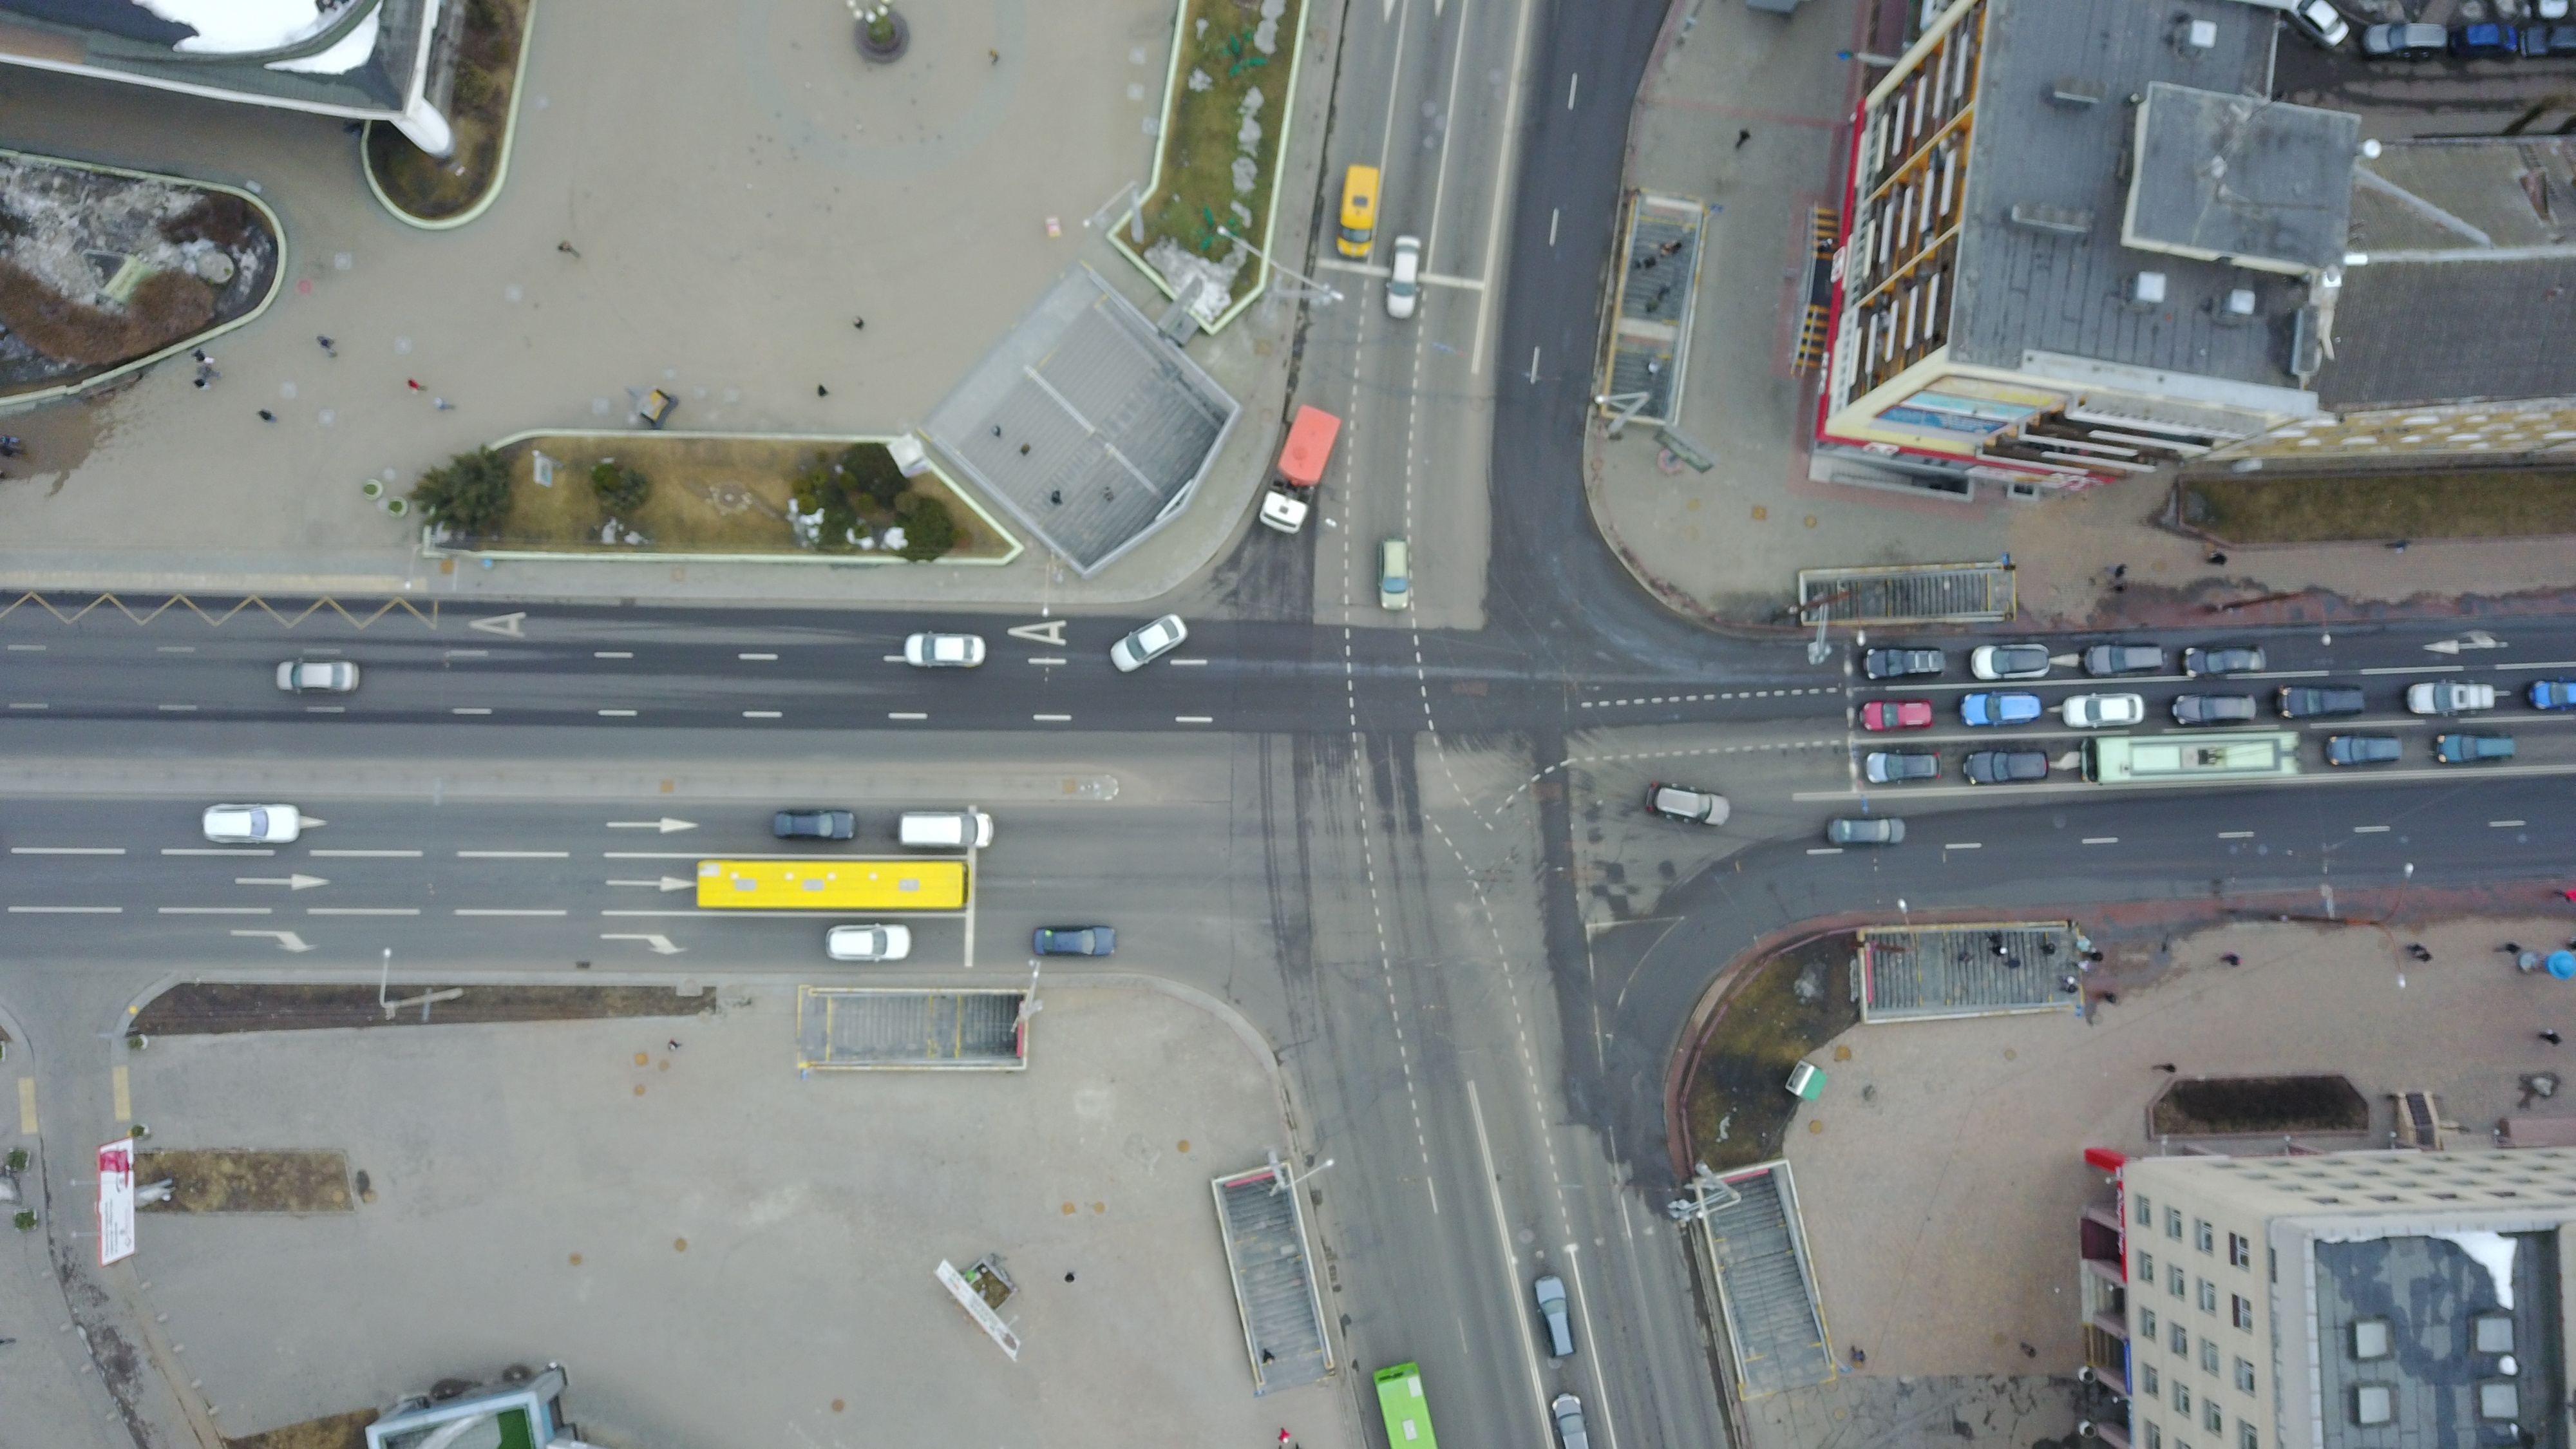car: (1108, 610, 1196, 676), (195, 798, 303, 847), (1525, 1270, 1580, 1364), (2399, 676, 2503, 720), (1644, 777, 1732, 828), (274, 653, 364, 699), (1959, 743, 2049, 789), (2275, 679, 2371, 722), (1957, 686, 2043, 732), (2077, 640, 2174, 681), (1969, 639, 2058, 683), (821, 922, 918, 961), (901, 630, 985, 674), (2429, 725, 2523, 764), (2167, 690, 2263, 727), (1861, 640, 1948, 681), (1385, 234, 1426, 318), (1028, 922, 1120, 959), (773, 807, 860, 846), (2321, 731, 2408, 770), (1828, 810, 1909, 851), (1861, 748, 1943, 789), (1373, 536, 1417, 610), (2059, 692, 2148, 729), (2181, 639, 2270, 676), (1858, 699, 1937, 732)
